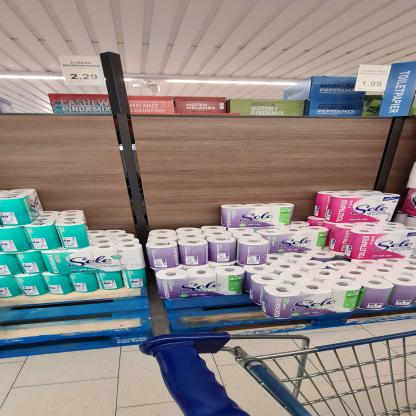prtg: (59, 56, 107, 87), (355, 66, 392, 93)
